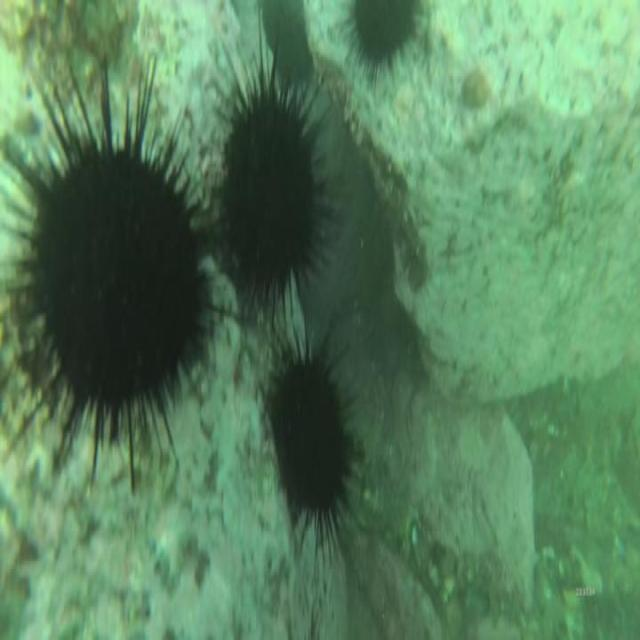echinus: (1, 46, 233, 502), (204, 0, 343, 321), (268, 336, 354, 548), (342, 0, 431, 87)
